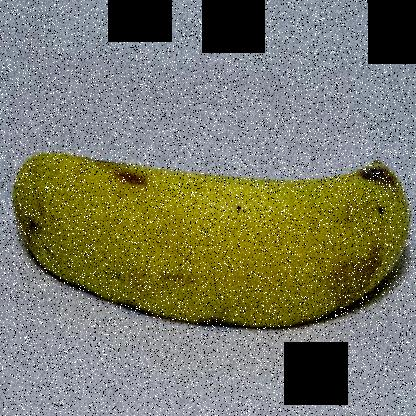freshripe: (6, 135, 414, 346)
